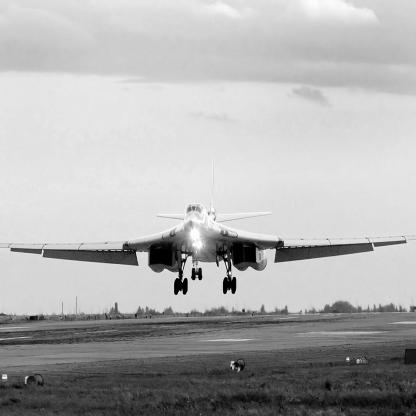Tu160: (1, 158, 416, 297)
